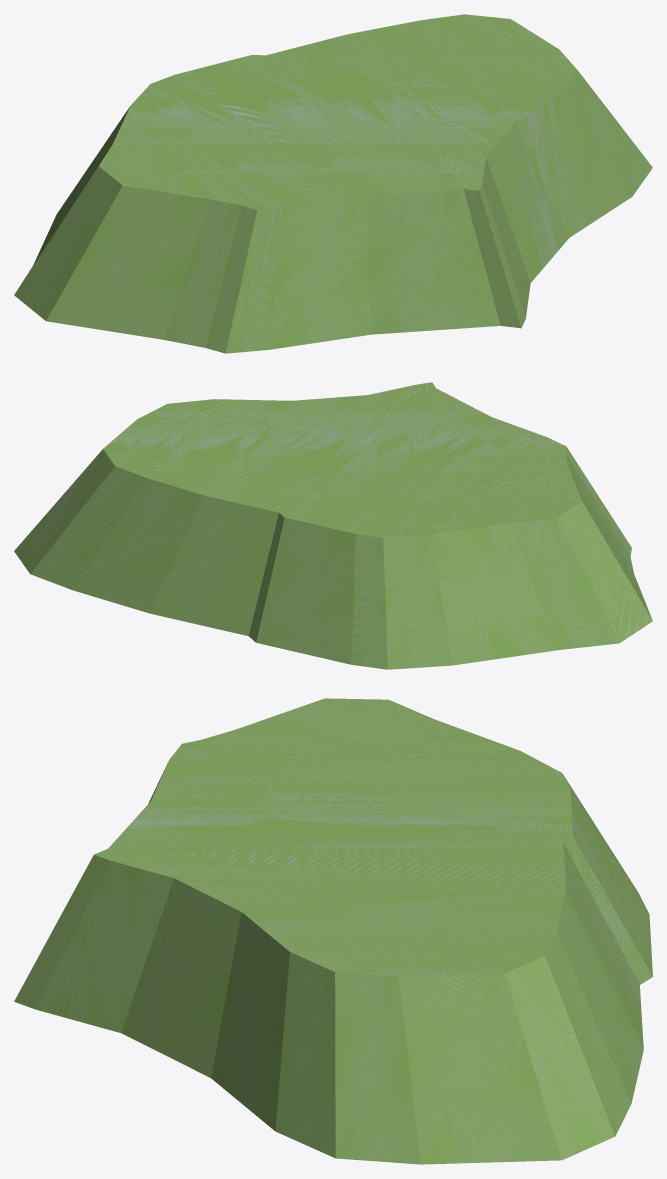
The model's file is Mound_Grass_01.fbx.
3 views of the same model, one above another, from view 1: azimuth 30°, elevation 25°; view 2: azimuth 150°, elevation 25°; view 3: azimuth 270°, elevation 25° (orthographic). The views are drawn at different scales.
Parts seen in each view (by area): view 1: Model; view 2: Model; view 3: Model.
Boxes of the visible parts, x1,y1,x2,y2 form: Model: (14, 14, 652, 353); Model: (14, 382, 652, 669); Model: (14, 698, 652, 1164).
Size of the model in its own units: 8136 by 1446 by 5921.
